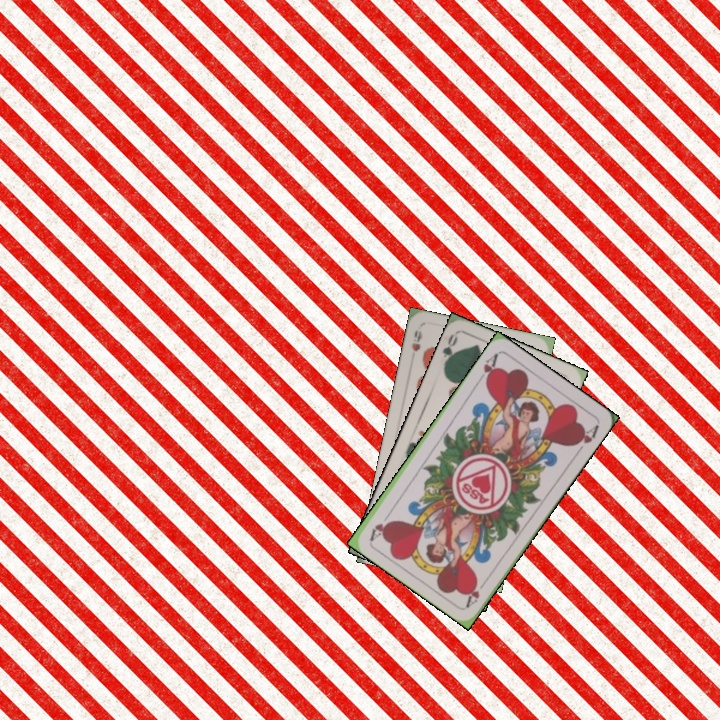GO: (438, 330, 460, 370)
H9: (408, 326, 425, 354)
HA: (462, 574, 491, 610), (473, 349, 501, 386)
